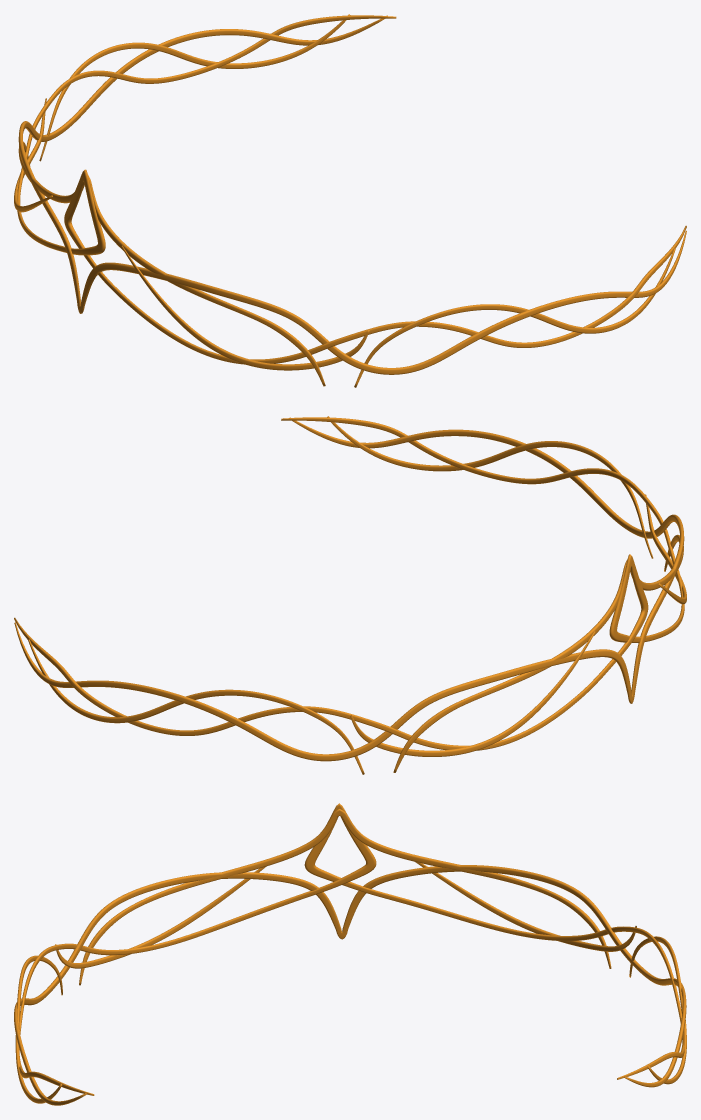
File: suraimu_kanmuri_animation.fbx
3 views of the same model, one above another, from view 1: azimuth 30°, elevation 25°; view 2: azimuth 150°, elevation 25°; view 3: azimuth 270°, elevation 25° (orthographic). The views are drawn at different scales.
Visible parts, largest first — view 1: diadema.001, diadema; view 2: diadema, diadema.001; view 3: diadema, diadema.001.
Part boxes in pixels (x1=…): diadema.001: x1=14, y1=15, x2=682, y2=387; diadema: x1=14, y1=14, x2=686, y2=387; diadema: x1=14, y1=416, x2=686, y2=774; diadema.001: x1=15, y1=418, x2=686, y2=774; diadema: x1=14, y1=803, x2=686, y2=1104; diadema.001: x1=19, y1=804, x2=683, y2=1105.
Size of the model in its own units: 971 by 282 by 1252.
